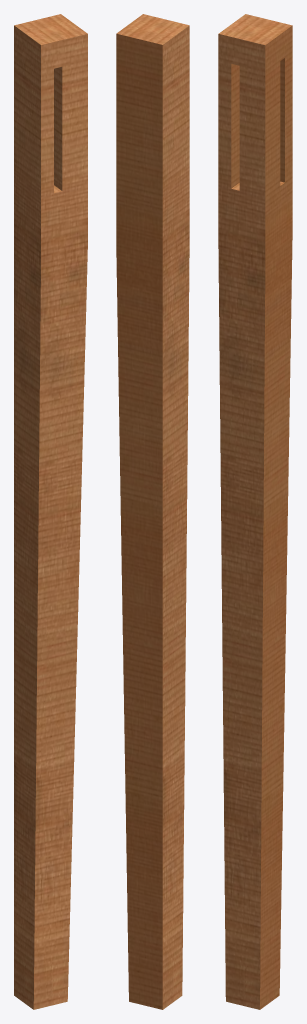
The model's file is original-21.obj.
3 views of the same model, side by side, from view 1: azimuth 30°, elevation 25°; view 2: azimuth 150°, elevation 25°; view 3: azimuth 330°, elevation 25° (orthographic).
Parts seen in each view (by area): view 1: Group22/mesh53/mesh53-geometry#mesh53-geometry; view 2: Group22/mesh53/mesh53-geometry#mesh53-geometry; view 3: Group22/mesh53/mesh53-geometry#mesh53-geometry.
Part boxes in pixels (x1,y1,x2,y2): Group22/mesh53/mesh53-geometry#mesh53-geometry: (14,14,87,1009); Group22/mesh53/mesh53-geometry#mesh53-geometry: (116,14,189,1009); Group22/mesh53/mesh53-geometry#mesh53-geometry: (218,14,292,1009).
Size of the model in its own units: 0.0539 by 1.07 by 0.0539.
